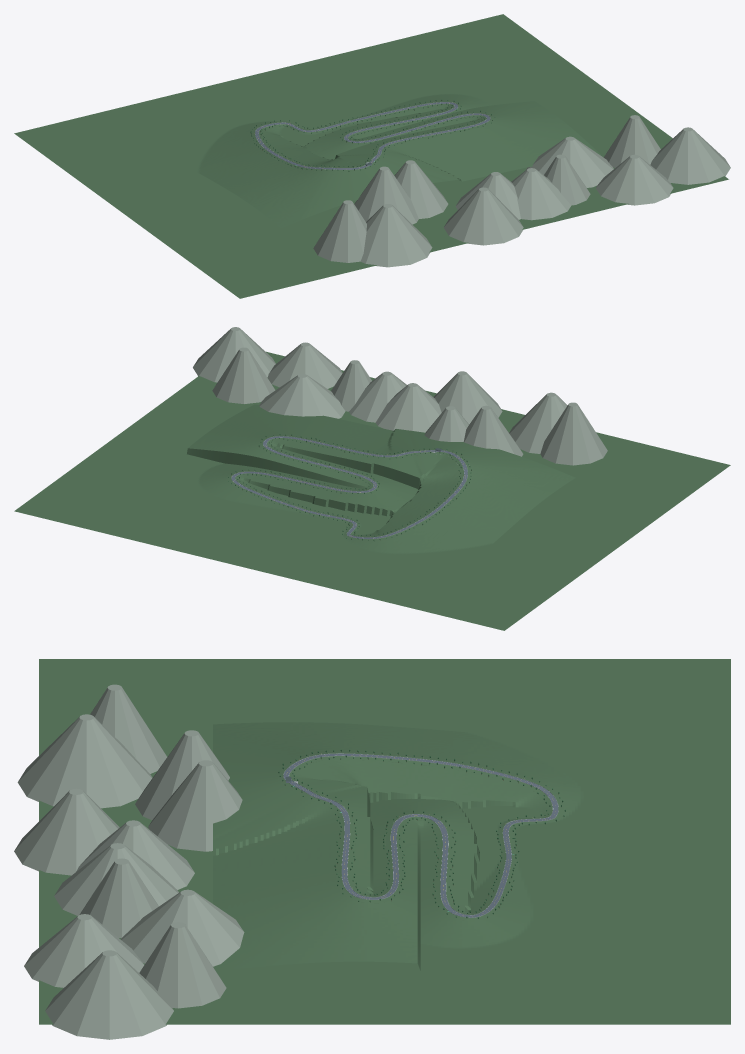
Rendered from seongsamjae.glb.
3 renders of one model, top to bottom at view 1: azimuth 30°, elevation 25°; view 2: azimuth 150°, elevation 25°; view 3: azimuth 270°, elevation 25°, orthographic. The views are drawn at different scales.
Visible parts, largest first — view 1: Terrain, Jirisan_Terrain_Heightfield, Scenery_Terrain_1_2, Scenery_Stone_-4_13, Scenery_Stone_1_13, Scenery_Stone_13_12, Scenery_Stone_10_13, Scenery_Stone_-6_12, Scenery_Stone_5_12, Scenery_Stone_8_10, Scenery_Stone_-2_10, Road_Asphalt_0 (+4 smaller); view 2: Terrain, Jirisan_Terrain_Heightfield, Scenery_Terrain_1_2, Scenery_Stone_-6_12, Scenery_Stone_8_10, Scenery_Stone_12_10, Scenery_Stone_3_11, Scenery_Stone_13_12, Scenery_Stone_10_13, Scenery_Stone_-4_13, Road_Asphalt_0, Scenery_Stone_1_13 (+4 smaller); view 3: Terrain, Jirisan_Terrain_Heightfield, Scenery_Stone_-4_13, Scenery_Terrain_1_2, Scenery_Stone_13_12, Scenery_Stone_1_13, Scenery_Stone_0_9, Scenery_Stone_8_10, Scenery_Stone_12_10, Scenery_Stone_10_13, Road_Asphalt_0, Scenery_Stone_6_12 (+4 smaller).
Part boxes in pixels (x1=…): Terrain: x1=14, y1=14, x2=728, y2=298; Jirisan_Terrain_Heightfield: x1=152, y1=61, x2=600, y2=227; Scenery_Terrain_1_2: x1=251, y1=101, x2=493, y2=171; Scenery_Stone_-4_13: x1=360, y1=204, x2=432, y2=267; Scenery_Stone_1_13: x1=443, y1=187, x2=523, y2=245; Scenery_Stone_13_12: x1=650, y1=127, x2=730, y2=184; Scenery_Stone_10_13: x1=596, y1=154, x2=673, y2=205; Scenery_Stone_-6_12: x1=313, y1=200, x2=366, y2=262; Scenery_Stone_5_12: x1=511, y1=168, x2=571, y2=220; Scenery_Stone_8_10: x1=526, y1=136, x2=613, y2=187; Scenery_Stone_-2_10: x1=354, y1=166, x2=418, y2=224; Road_Asphalt_0: x1=255, y1=102, x2=490, y2=169; Terrain: x1=14, y1=351, x2=730, y2=630; Jirisan_Terrain_Heightfield: x1=126, y1=404, x2=575, y2=577; Scenery_Terrain_1_2: x1=227, y1=435, x2=471, y2=541; Scenery_Stone_-6_12: x1=540, y1=402, x2=607, y2=465; Scenery_Stone_8_10: x1=259, y1=374, x2=345, y2=418; Scenery_Stone_12_10: x1=212, y1=347, x2=275, y2=403; Scenery_Stone_3_11: x1=375, y1=383, x2=441, y2=432; Scenery_Stone_13_12: x1=193, y1=327, x2=275, y2=382; Scenery_Stone_10_13: x1=267, y1=342, x2=342, y2=388; Scenery_Stone_-4_13: x1=509, y1=392, x2=567, y2=453; Road_Asphalt_0: x1=231, y1=436, x2=467, y2=538; Scenery_Stone_1_13: x1=433, y1=371, x2=502, y2=424; Terrain: x1=39, y1=659, x2=730, y2=1024; Jirisan_Terrain_Heightfield: x1=213, y1=722, x2=607, y2=971; Scenery_Stone_-4_13: x1=17, y1=714, x2=152, y2=808; Scenery_Terrain_1_2: x1=278, y1=752, x2=563, y2=920; Scenery_Stone_13_12: x1=45, y1=950, x2=173, y2=1039; Scenery_Stone_1_13: x1=14, y1=788, x2=119, y2=875; Scenery_Stone_0_9: x1=148, y1=760, x2=242, y2=851; Scenery_Stone_8_10: x1=121, y1=889, x2=244, y2=966; Scenery_Stone_12_10: x1=139, y1=922, x2=226, y2=1008; Scenery_Stone_10_13: x1=24, y1=914, x2=144, y2=987; Road_Asphalt_0: x1=283, y1=753, x2=558, y2=917; Scenery_Stone_6_12: x1=79, y1=858, x2=158, y2=938.
Size of the model in its own units: 3636 by 322 by 2902.
